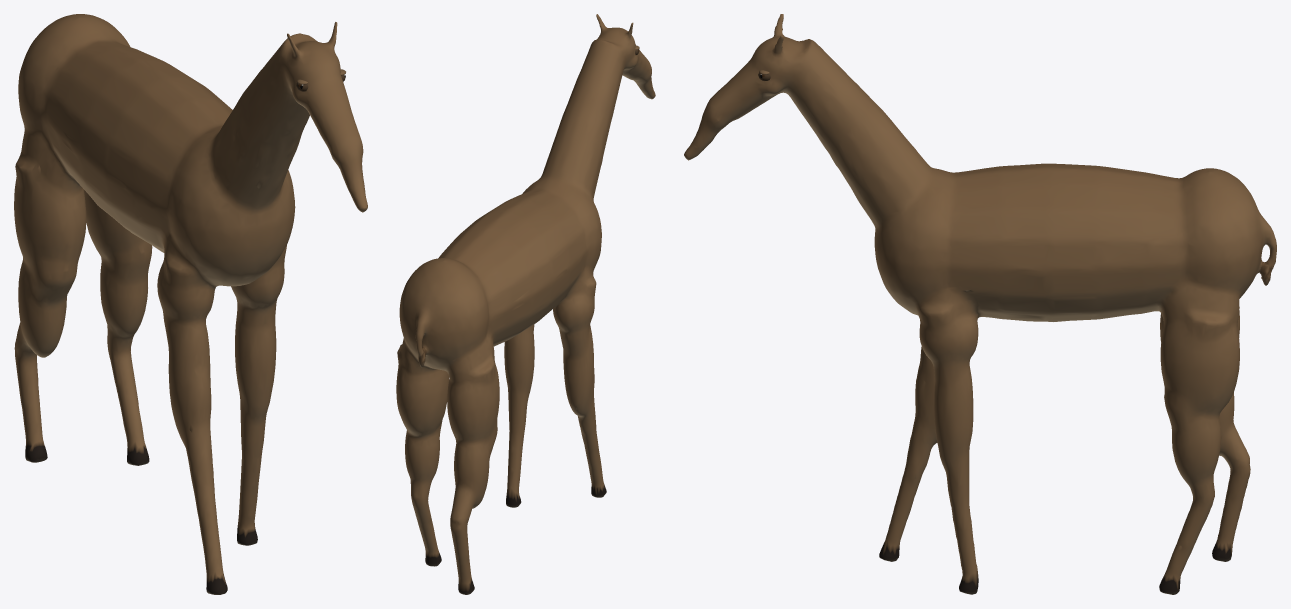
Rendered from MacraucheniaPatachonica.fbx.
The picture shows the model from 3 angles, left to right: view 1: azimuth 30°, elevation 25°; view 2: azimuth 150°, elevation 25°; view 3: azimuth 270°, elevation 25°; orthographic projection. The views are drawn at different scales.
Parts seen in each view (by area): view 1: MacraucheniaPatachonica; view 2: MacraucheniaPatachonica; view 3: MacraucheniaPatachonica.
Part boxes in pixels (<box>): MacraucheniaPatachonica: <box>14,14,367,594</box>; MacraucheniaPatachonica: <box>396,14,655,594</box>; MacraucheniaPatachonica: <box>684,14,1276,594</box>.
Bounding box in the file's own units: 0.4271 × 1.93 × 1.89.
